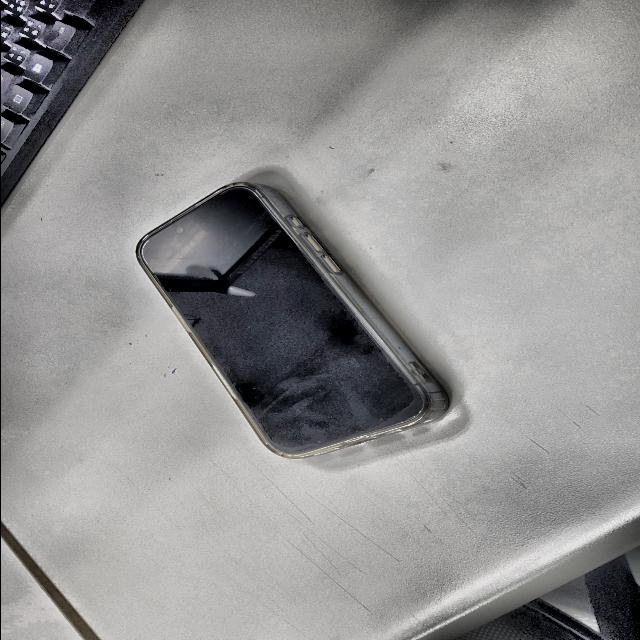Keyboard: (0, 0, 143, 205)
PHONE: (136, 182, 446, 458)
